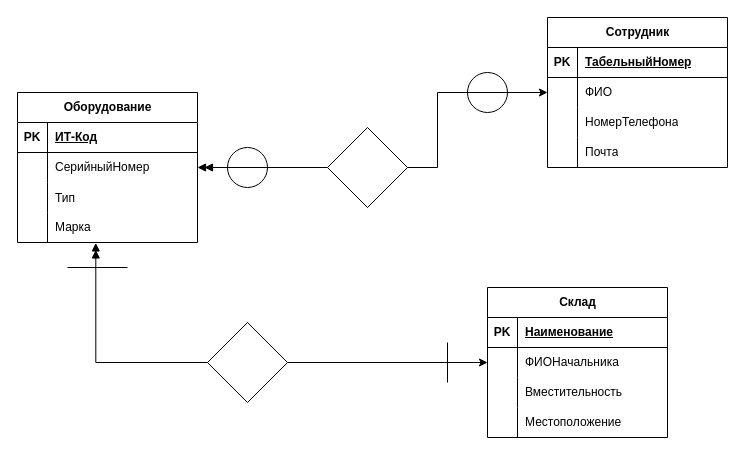
The diagram is 745 pixels wide and 455 high, and some of its shapes have lost their labels. The centre of each missing label's shape, as x and y in pixels:
обладает: [367,167]
числится: [247,362]
